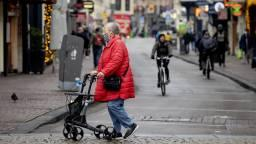walking_frame: (62, 22, 140, 141)
